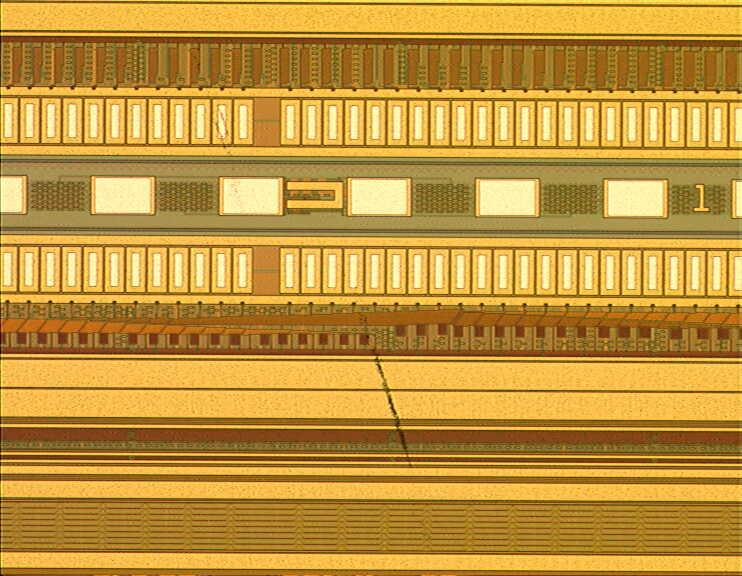SCRATCH: (175, 39, 437, 576)
